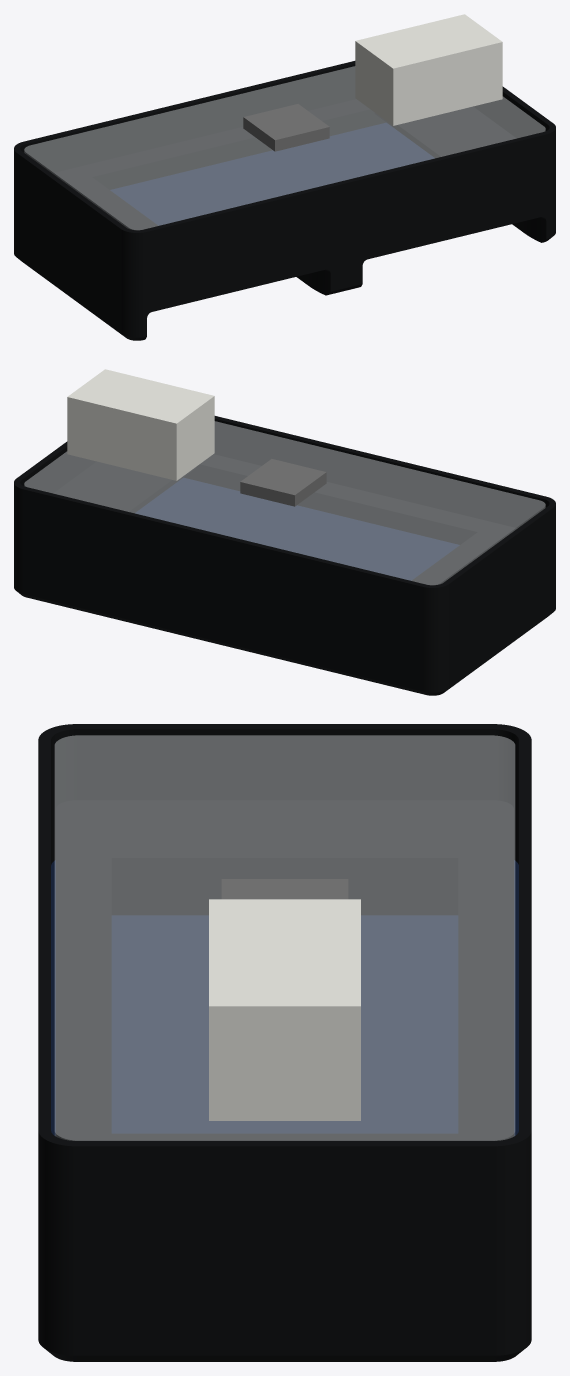
The model's file is stepper-motor.glb.
The picture shows the model from 3 angles, top to bottom: view 1: azimuth 30°, elevation 25°; view 2: azimuth 150°, elevation 25°; view 3: azimuth 270°, elevation 25°; orthographic projection. The views are drawn at different scales.
Visible parts, largest first — view 1: black, glass, pcb, derived_motor_terminal, derived_driver_chip; view 2: black, glass, pcb, derived_motor_terminal, derived_driver_chip; view 3: black, glass, pcb, derived_motor_terminal, derived_driver_chip.
Part boxes in pixels (x1=…): black: x1=14, y1=61, x2=555, y2=340; glass: x1=24, y1=66, x2=545, y2=229; pcb: x1=110, y1=122, x2=434, y2=225; derived_motor_terminal: x1=355, y1=14, x2=502, y2=125; derived_driver_chip: x1=243, y1=104, x2=329, y2=151; black: x1=14, y1=416, x2=555, y2=695; glass: x1=24, y1=421, x2=545, y2=584; pcb: x1=135, y1=477, x2=459, y2=580; derived_motor_terminal: x1=67, y1=369, x2=214, y2=480; derived_driver_chip: x1=240, y1=459, x2=326, y2=506; black: x1=38, y1=724, x2=531, y2=1361; glass: x1=55, y1=735, x2=514, y2=1140; pcb: x1=51, y1=860, x2=518, y2=1136; derived_motor_terminal: x1=209, y1=899, x2=360, y2=1120; derived_driver_chip: x1=221, y1=879, x2=348, y2=899.
Size of the model in its own units: 0.0395 by 0.015 by 0.0195.
